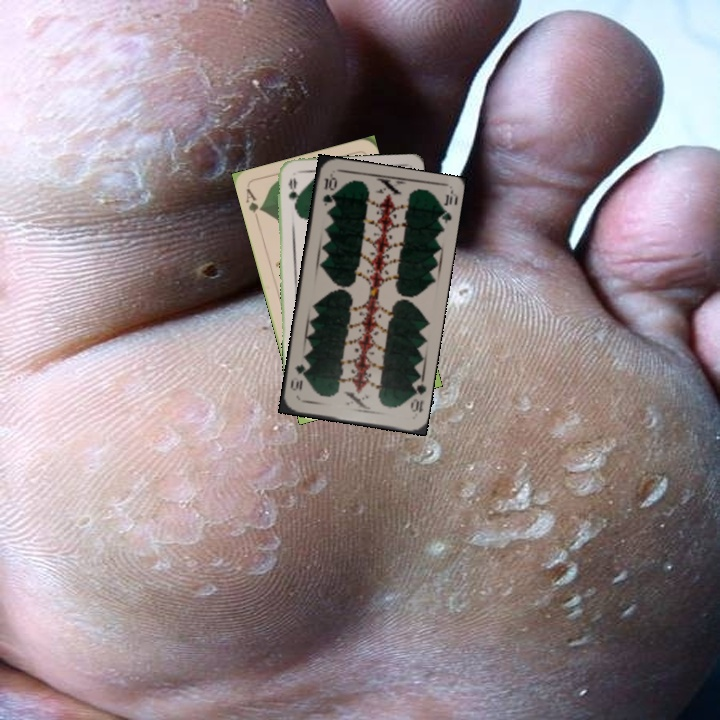G10: (406, 376, 428, 415), (319, 172, 339, 208)
GA: (242, 184, 265, 224)
GO: (284, 174, 300, 213)
